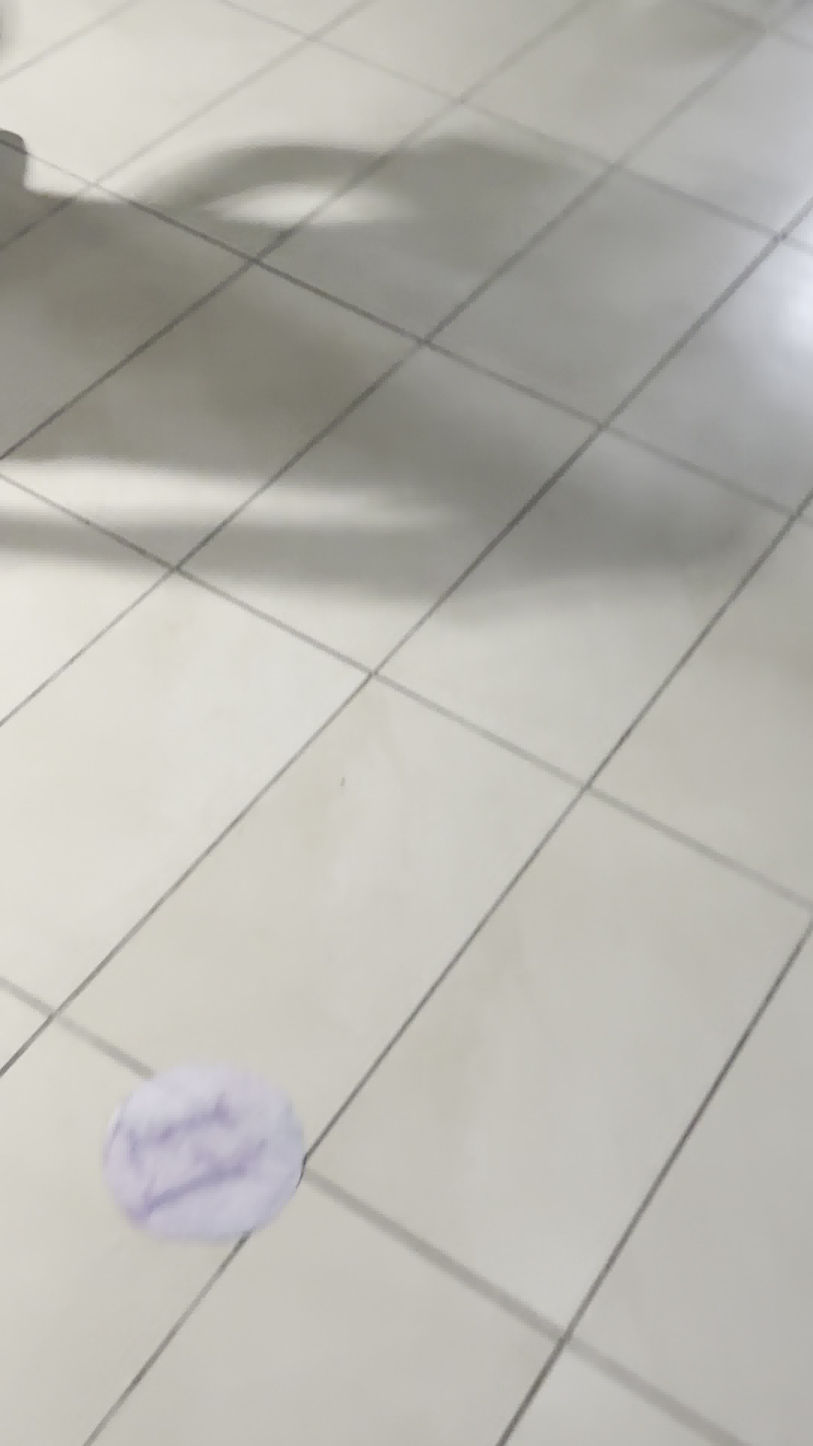Target: (97, 1067, 298, 1242)
